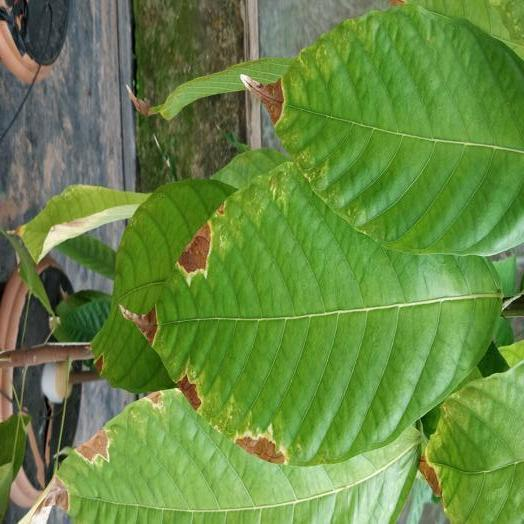Potassium: (141, 163, 501, 465), (241, 4, 523, 255), (24, 390, 419, 523)
